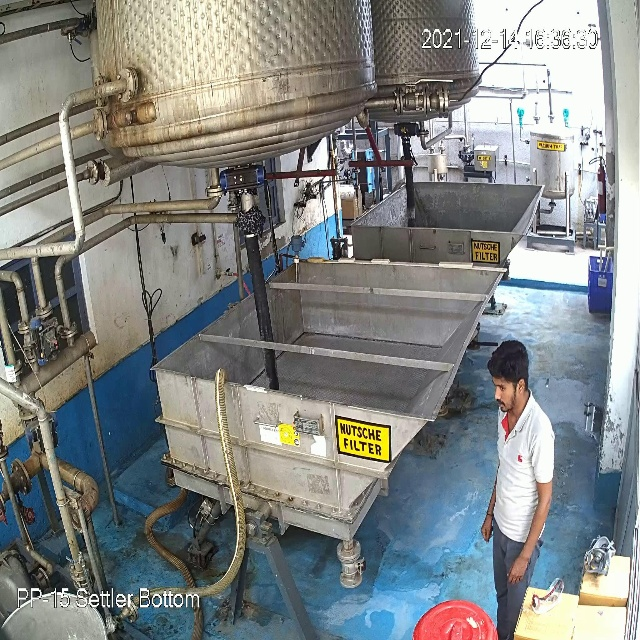Sin_gafas: (489, 375, 516, 396)
Sin_mascara: (492, 390, 520, 415)
